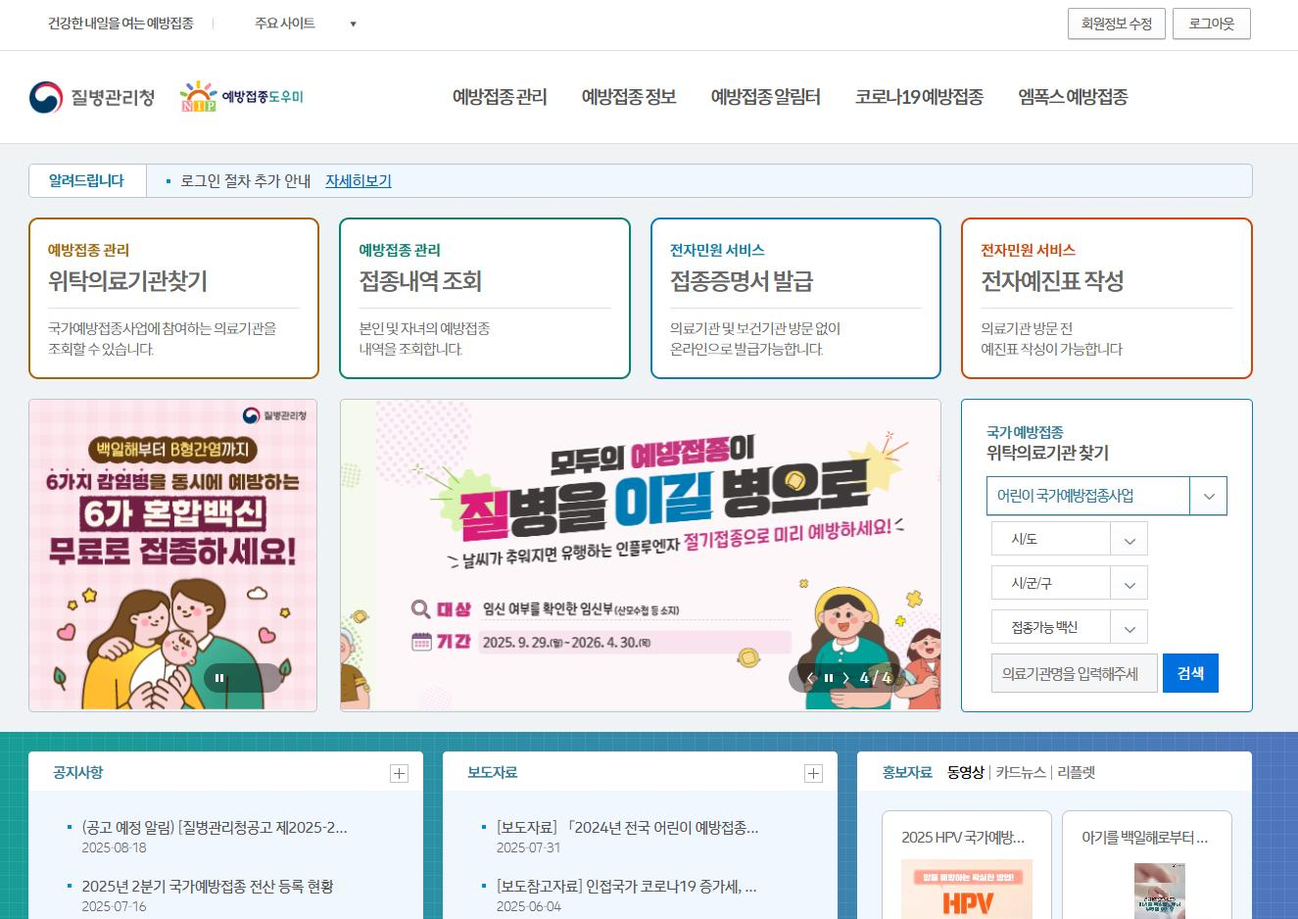button: (649, 213, 945, 385), (27, 210, 320, 378), (961, 216, 1252, 383), (339, 216, 632, 380), (844, 69, 995, 118), (174, 72, 318, 123), (700, 69, 827, 122), (445, 66, 561, 123), (571, 69, 686, 121), (1012, 76, 1137, 122), (1066, 4, 1164, 41), (794, 659, 899, 692), (1173, 7, 1250, 39), (322, 164, 397, 195), (1163, 652, 1217, 693), (207, 662, 280, 692), (996, 755, 1051, 787), (1055, 755, 1103, 786), (946, 756, 986, 787), (385, 759, 414, 791), (802, 759, 830, 787)
checkbox: (985, 477, 1230, 518), (989, 517, 1145, 556), (989, 566, 1149, 603), (991, 612, 1147, 647), (242, 0, 367, 41)
input_field: (995, 651, 1159, 695)
popup: (340, 396, 943, 715), (25, 393, 317, 716)
